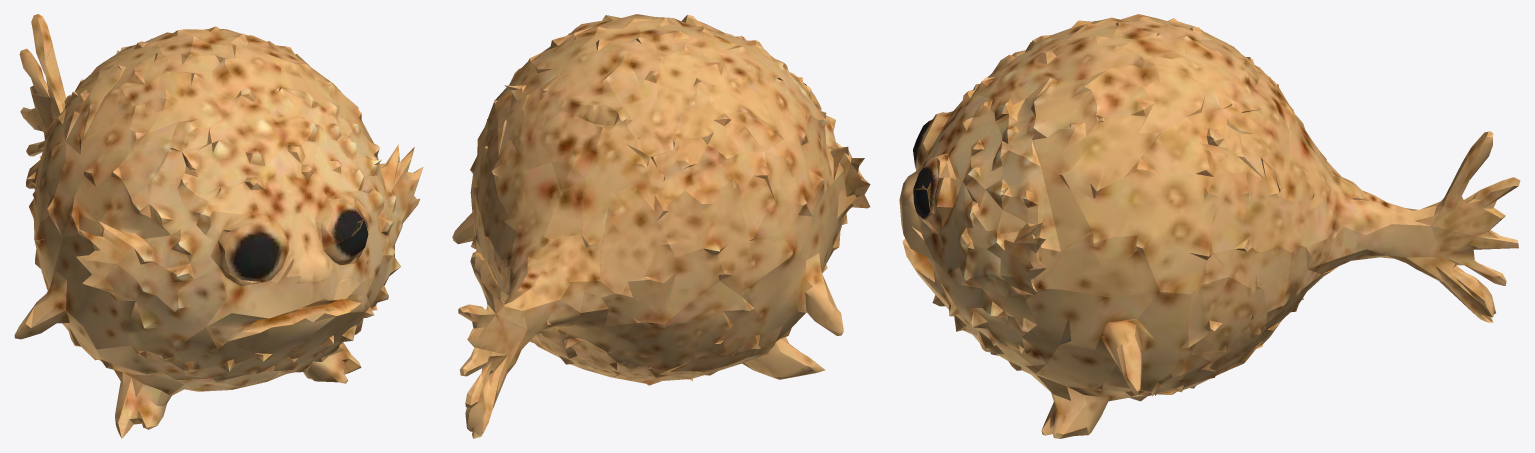
The model's file is puffer-lamp.glb.
3 renders of one model, left to right at view 1: azimuth 30°, elevation 25°; view 2: azimuth 150°, elevation 25°; view 3: azimuth 270°, elevation 25°, orthographic. The views are drawn at different scales.
Parts seen in each view (by area): view 1: output_unwrapped; view 2: output_unwrapped; view 3: output_unwrapped.
Boxes of the visible parts, bbox=[...] form: output_unwrapped: bbox=[14, 14, 423, 438]; output_unwrapped: bbox=[452, 14, 870, 438]; output_unwrapped: bbox=[899, 14, 1520, 438].
Bounding box in the file's own units: 1.42 × 1.2 × 1.9.
Materials: 1 (1 with a texture image).
